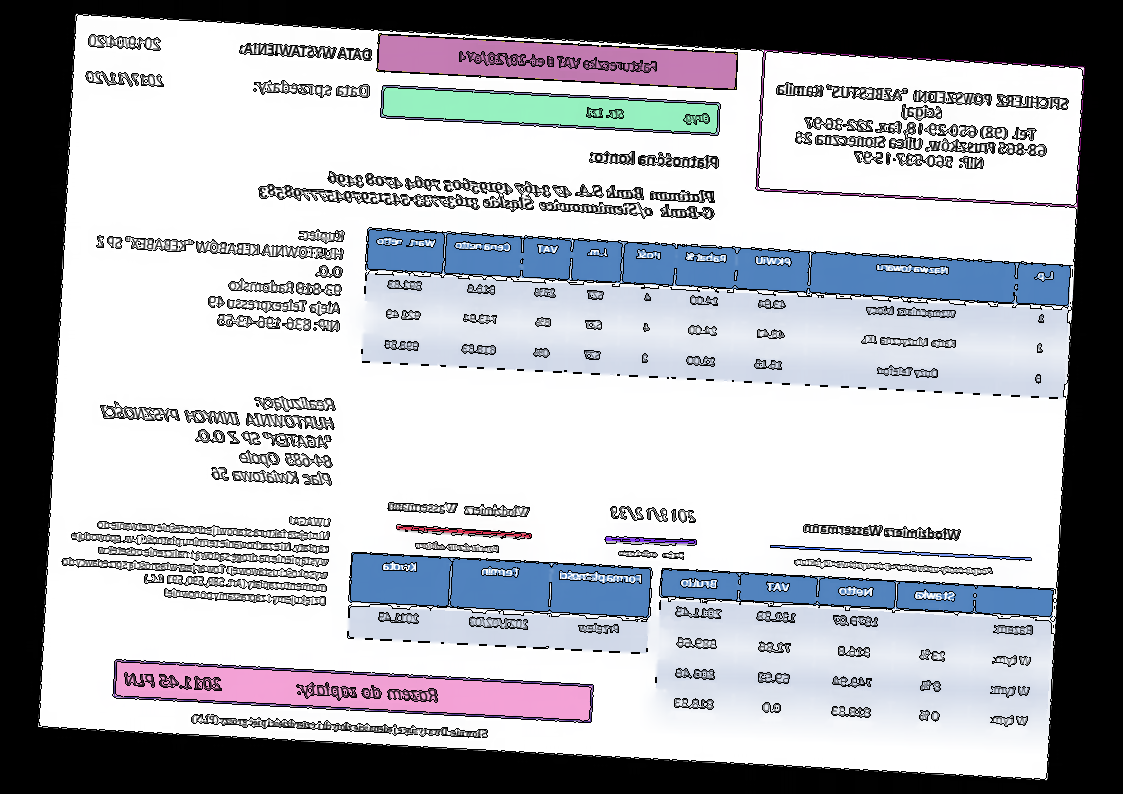Table: (358, 225, 1074, 401), (651, 566, 1056, 742), (344, 550, 654, 656)
TextBox: (90, 215, 347, 337), (253, 163, 719, 227), (769, 79, 1072, 177), (56, 501, 333, 608), (94, 381, 340, 492), (121, 667, 443, 709), (188, 709, 492, 743), (457, 46, 663, 77), (791, 552, 997, 579), (800, 515, 964, 545), (587, 145, 721, 175), (236, 36, 373, 65), (384, 495, 535, 521), (251, 76, 371, 102), (583, 103, 712, 127), (608, 501, 700, 527), (84, 67, 168, 91), (85, 30, 164, 53), (413, 538, 503, 556), (615, 543, 690, 563)
